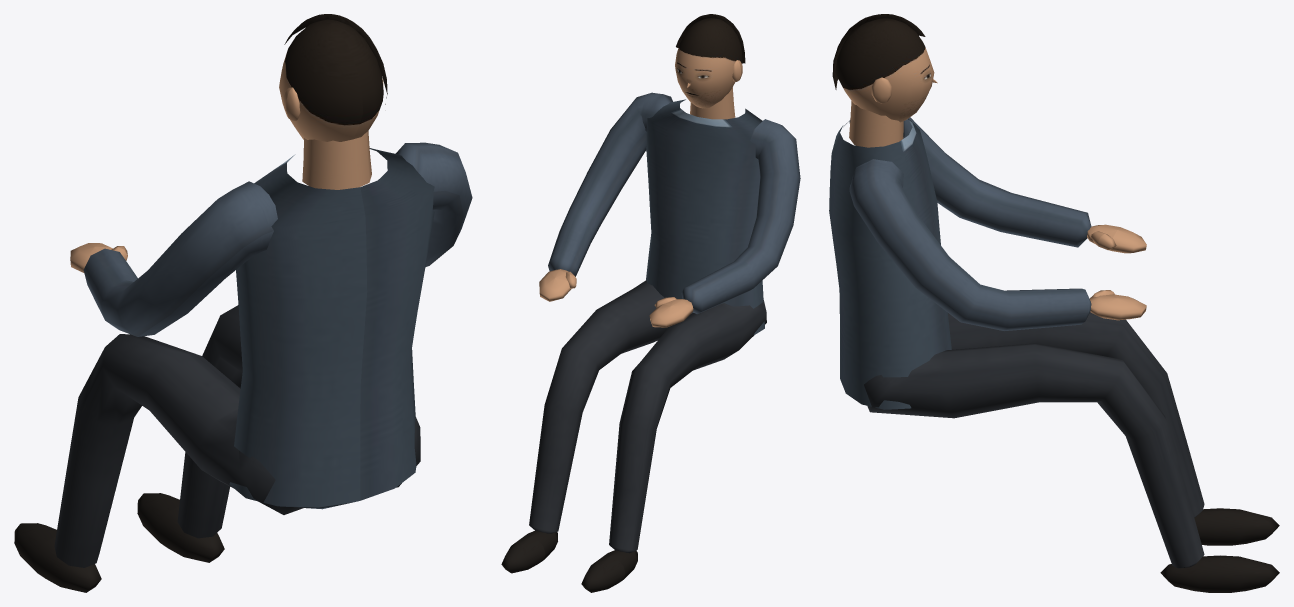
Rendered from driver.glb.
3 renders of one model, left to right at view 1: azimuth 30°, elevation 25°; view 2: azimuth 150°, elevation 25°; view 3: azimuth 270°, elevation 25°, orthographic. The views are drawn at different scales.
Parts seen in each view (by area): view 1: Body, HeadMesh; view 2: Body, HeadMesh; view 3: Body, HeadMesh.
Part boxes in pixels (x1=…): Body: x1=14, y1=131, x2=472, y2=592; HeadMesh: x1=279, y1=14, x2=387, y2=141; Body: x1=501, y1=87, x2=800, y2=592; HeadMesh: x1=675, y1=14, x2=745, y2=108; Body: x1=829, y1=101, x2=1279, y2=592; HeadMesh: x1=832, y1=14, x2=937, y2=122.
Size of the model in its own units: 0.6142 by 1.3 by 0.9614.
1 material, 1 textured.
